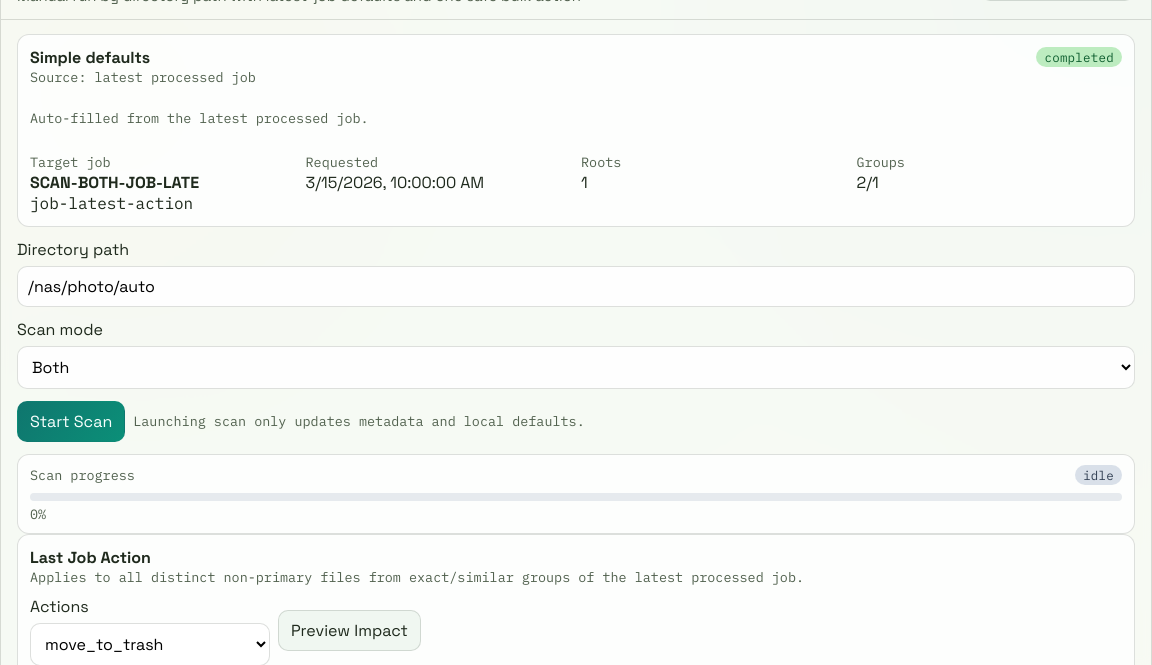
Test: DashboardPage › runs preview, draft, and confirm flow for the latest processed job action
This screenshot has width=1152, height=665.
Expected: the element with test id "simple-defaults-card" is shown, [17, 34, 1135, 227]
Click the button "Preview Impact": (349, 631) [278, 610, 421, 651]
(page scrolled)
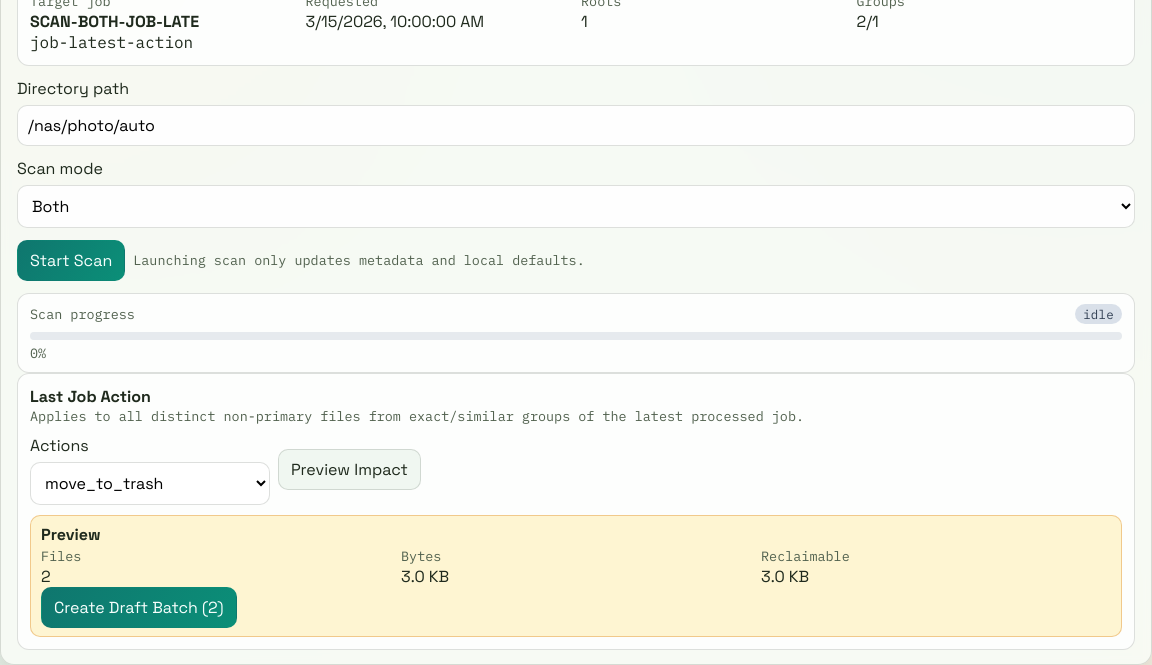
Now the element with test id "simple-action-preview" is shown, box [30, 515, 1122, 637]
Click the button "Create Draft Batch (2)": (139, 607) [41, 587, 237, 628]
(page scrolled)
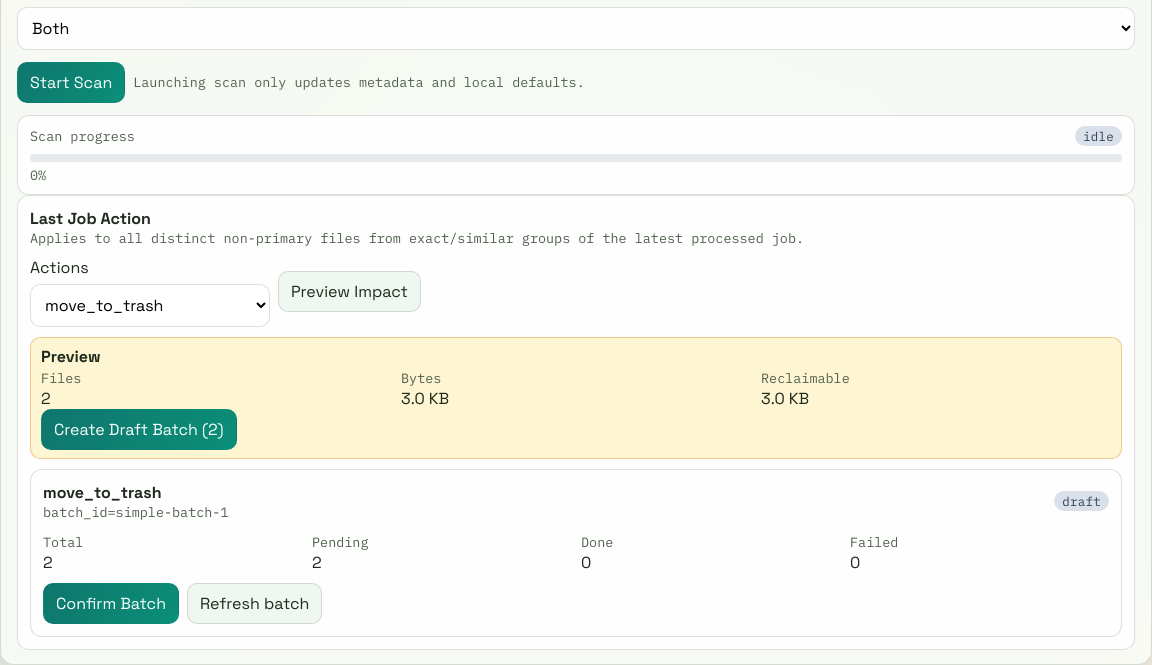
Now the element with test id "simple-action-batch" is shown, box [30, 469, 1122, 637]
Click the button "Confirm Batch": (111, 603) [43, 583, 179, 624]
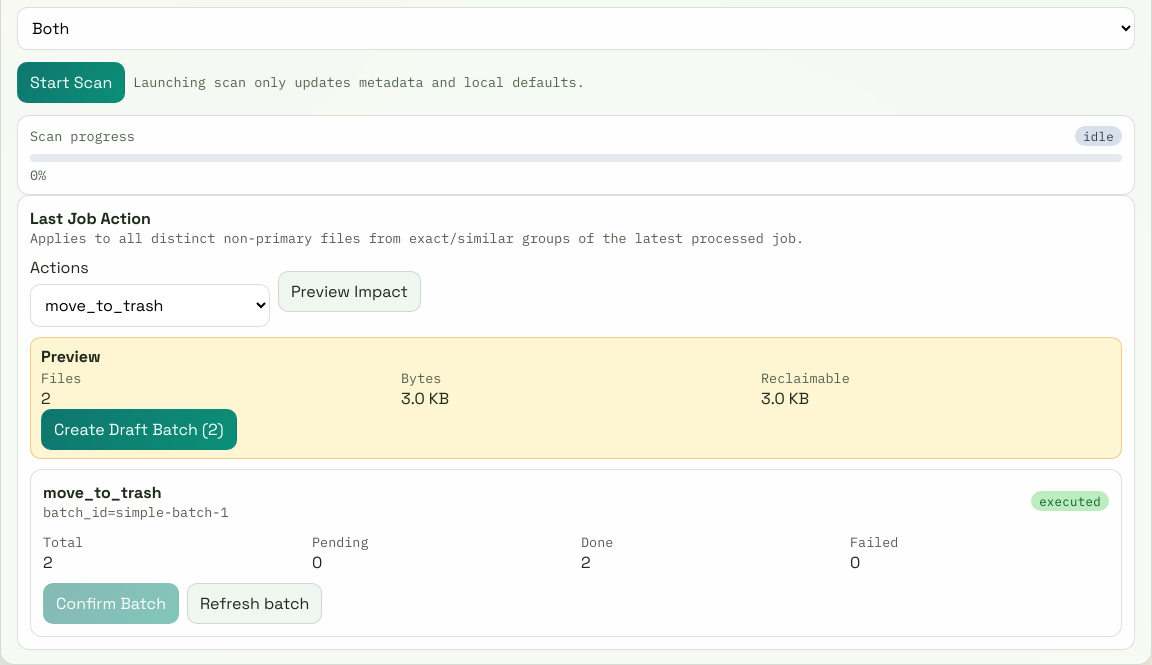
Now the element with test id "simple-action-batch" shows "2", box [43, 552, 53, 573]
Now the element with test id "simple-action-batch" shows "executed", box [1039, 493, 1101, 509]
